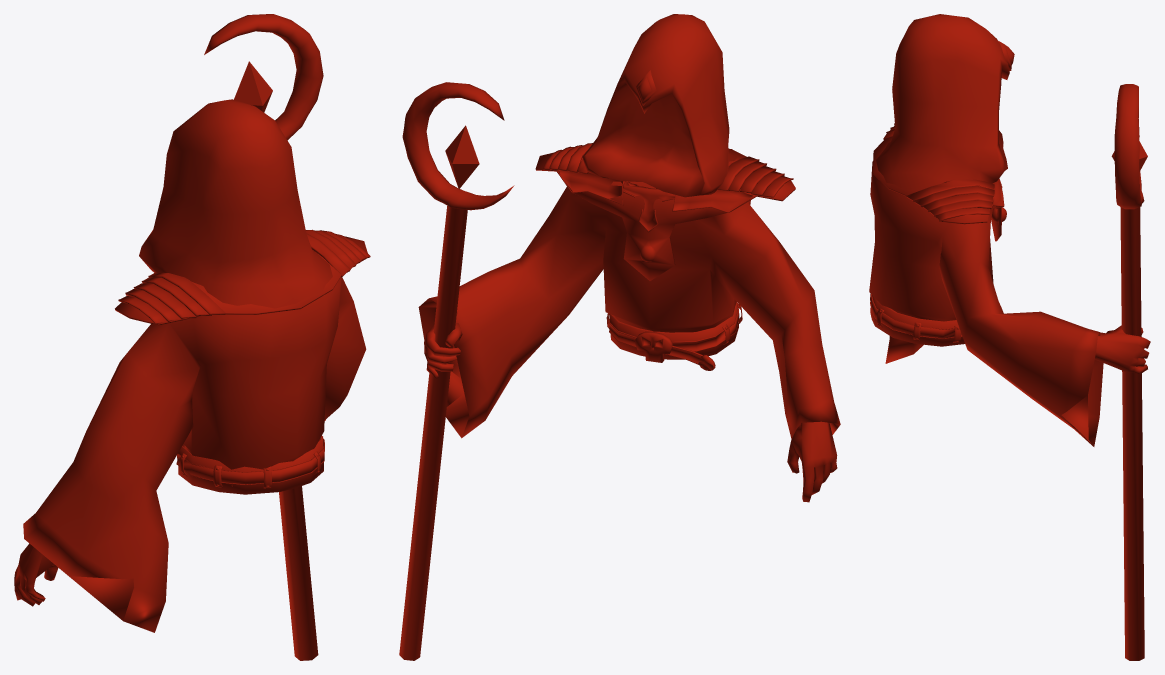
The model's file is top_000027.obj.
The picture shows the model from 3 angles, left to right: view 1: azimuth 30°, elevation 25°; view 2: azimuth 150°, elevation 25°; view 3: azimuth 270°, elevation 25°; orthographic projection. The views are drawn at different scales.
Visible parts, largest first — view 1: LowPoly_Warlock.000_Plane.005; view 2: LowPoly_Warlock.000_Plane.005; view 3: LowPoly_Warlock.000_Plane.005.
Boxes of the visible parts, box(x1,y1,x2,y2) form: LowPoly_Warlock.000_Plane.005: box(14, 14, 370, 660); LowPoly_Warlock.000_Plane.005: box(399, 14, 840, 660); LowPoly_Warlock.000_Plane.005: box(869, 14, 1150, 660).
Size of the model in its own units: 1.2 by 1.97 by 0.8856.
